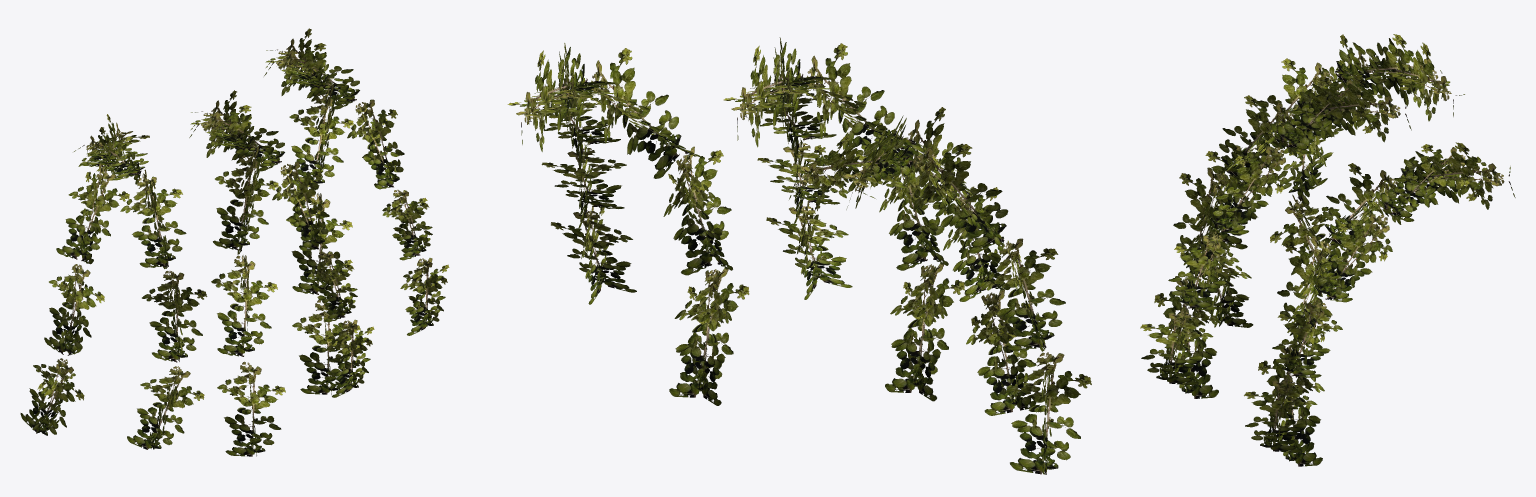
File: NW_NATURE_HANGPLANTS_01.glb
3 renders of one model, left to right at view 1: azimuth 30°, elevation 25°; view 2: azimuth 150°, elevation 25°; view 3: azimuth 270°, elevation 25°, orthographic. The views are drawn at different scales.
Parts seen in each view (by area): view 1: Mesh; view 2: Mesh; view 3: Mesh.
Boxes of the visible parts, x1,y1,x2,y2 form: Mesh: [20, 28, 449, 456]; Mesh: [507, 37, 1091, 474]; Mesh: [1140, 34, 1515, 466].
Bounding box in the file's own units: 5.03 × 3.64 × 3.51.
Materials: 1 (1 with a texture image).
